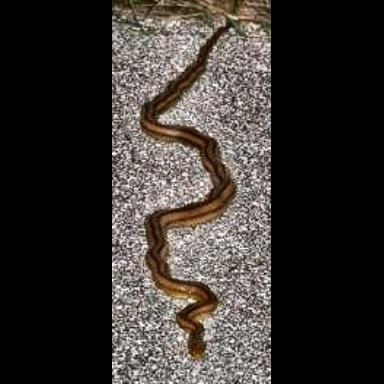snake: (126, 19, 244, 369)
